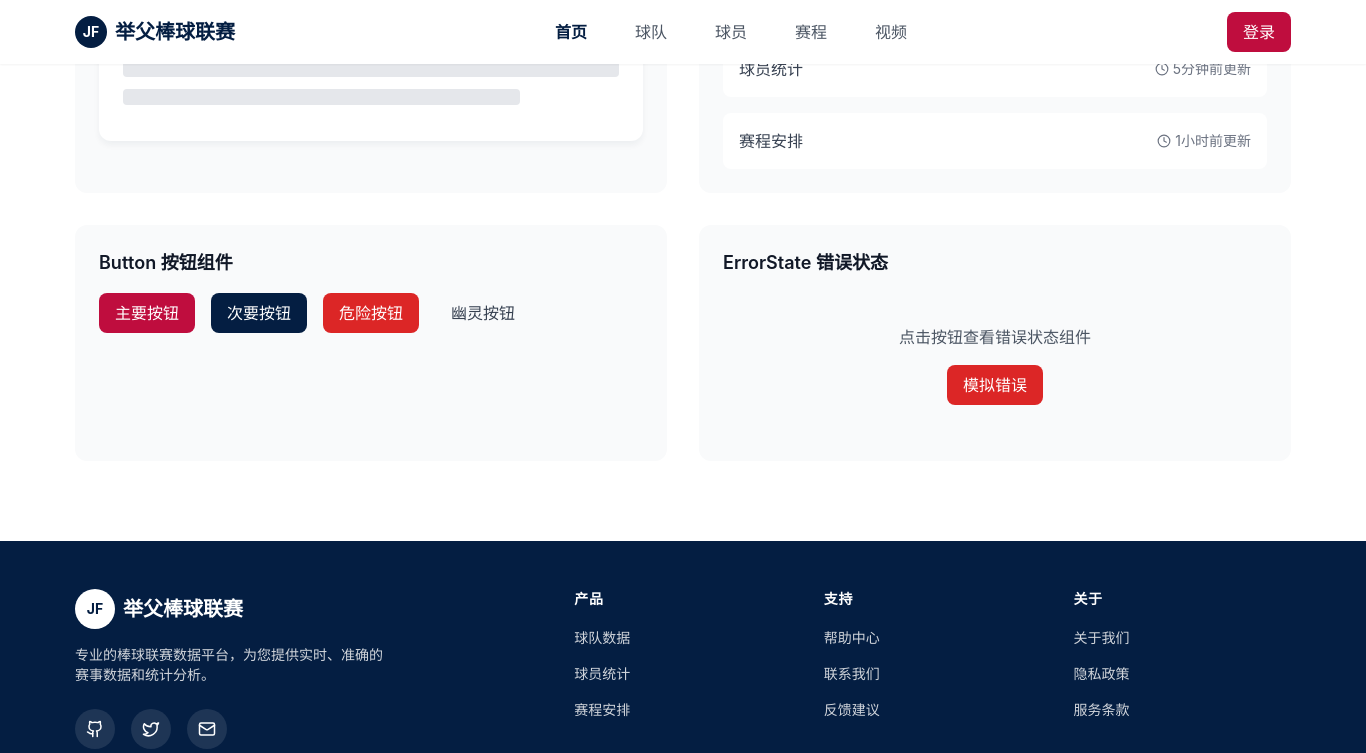
HomePage › retries after error
This screenshot has width=1366, height=753.
(page scrolled)
# Trigger error
Click the button "模拟错误": [995, 385] box [947,365,1043,405]
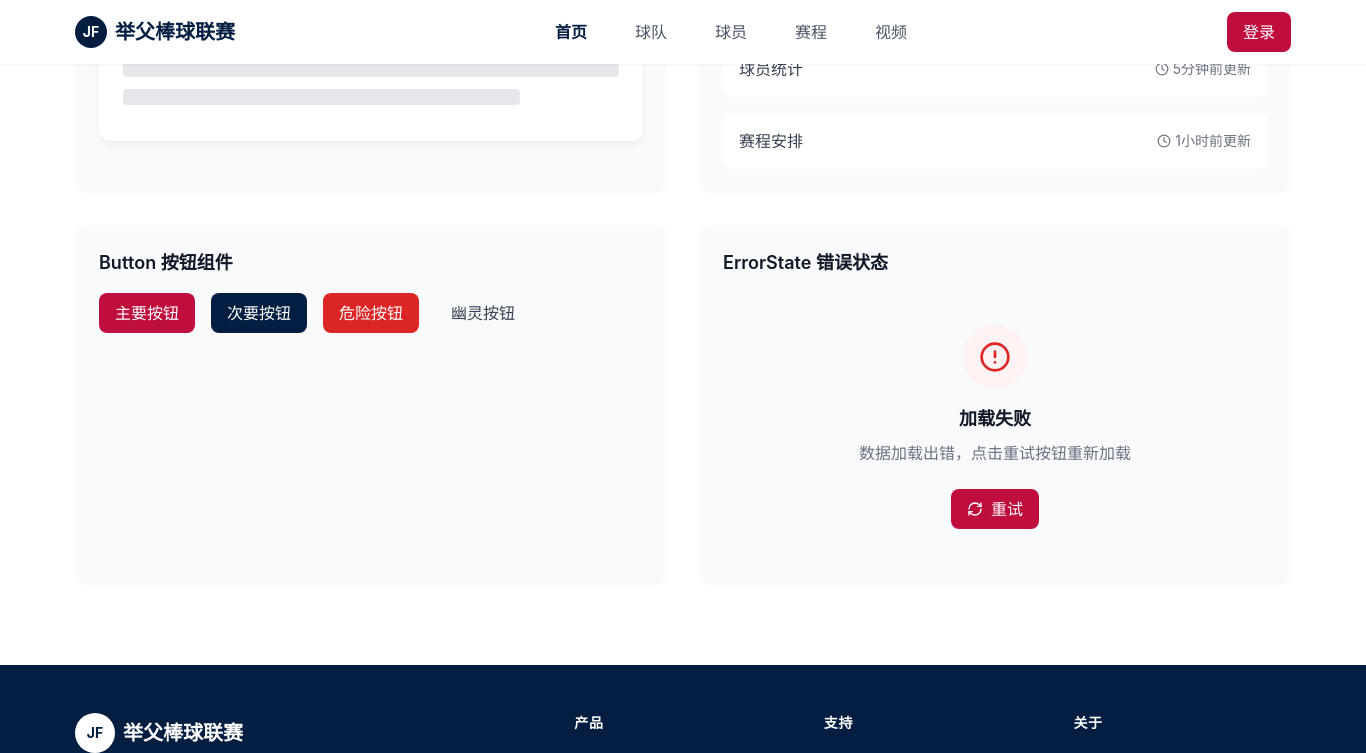
Expected: the heading "加载失败" is shown, [959,405,1031,433]
# Click retry
Click the button "重试": [995, 509] box [951,489,1039,529]
Wait 1500 ms
(page scrolled)
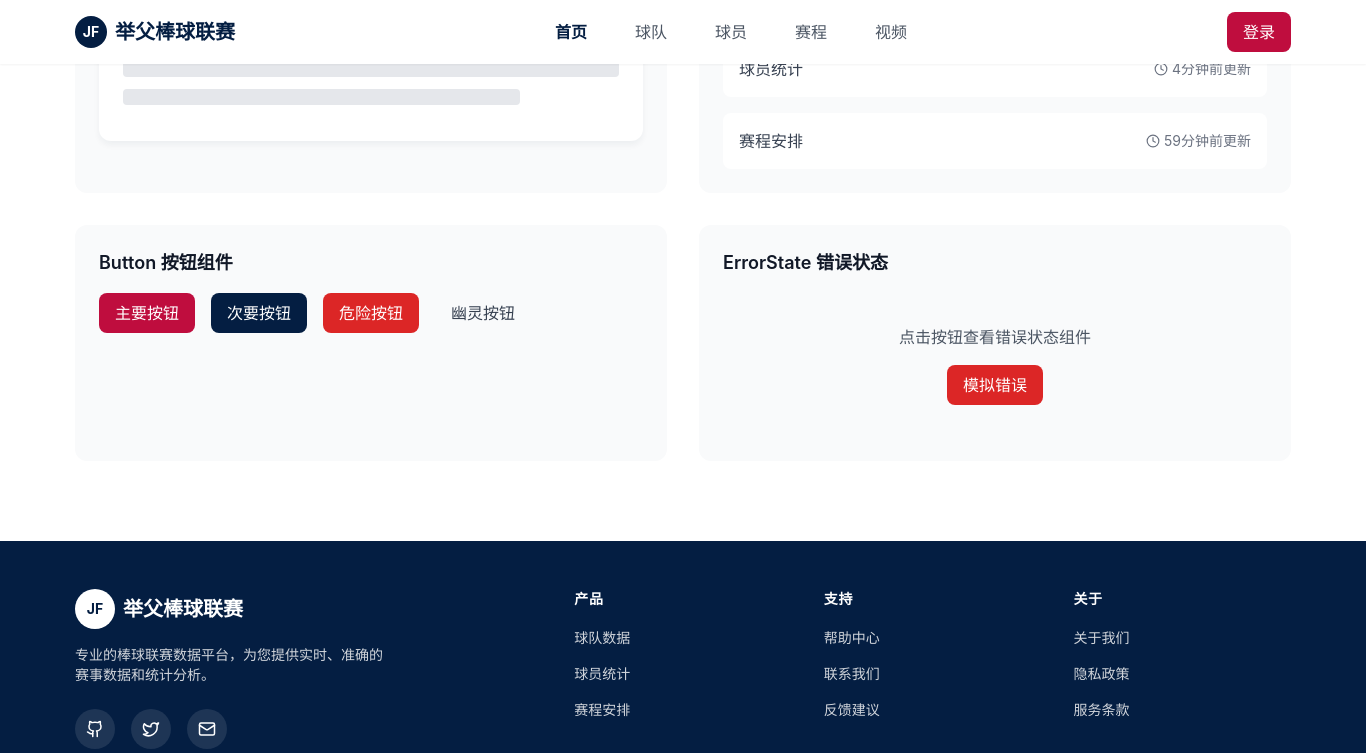
Expected: the button "模拟错误" is shown, [947,365,1043,405]
